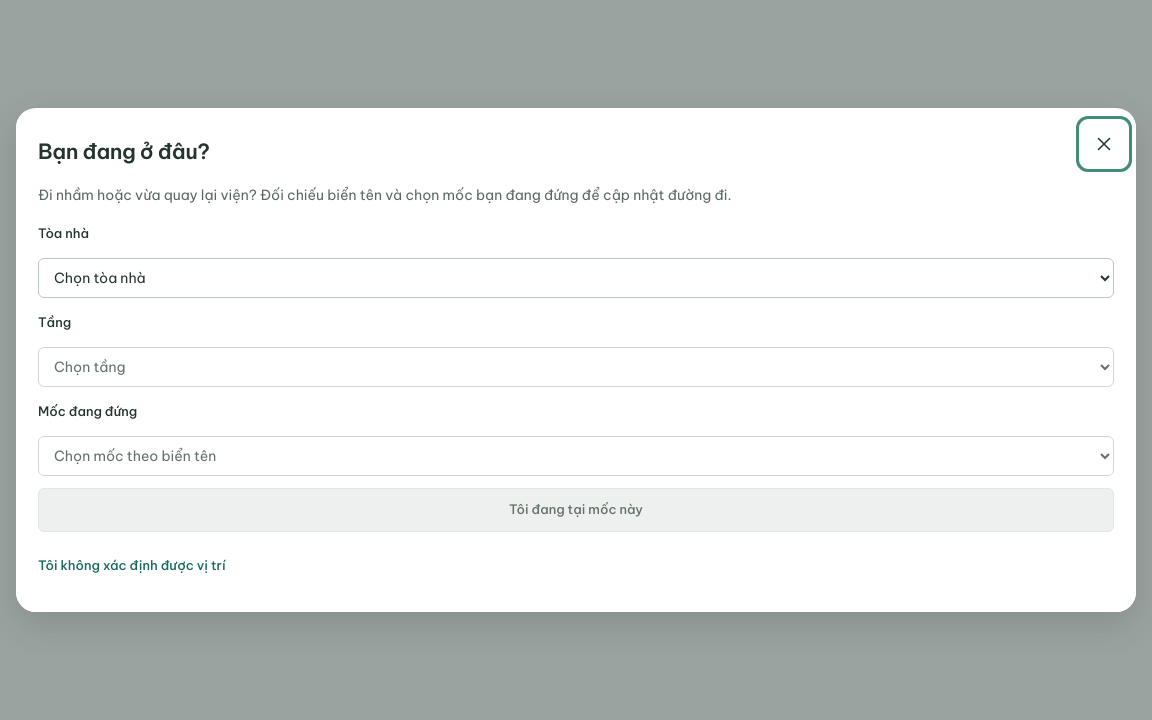
it: resets dependent choices when building changes and offers help without changing position
Select "Tòa B" in the dropdown labelled "Tòa nhà". click: (576, 278)
box: top-left (38, 258), bottom-right (1114, 298)
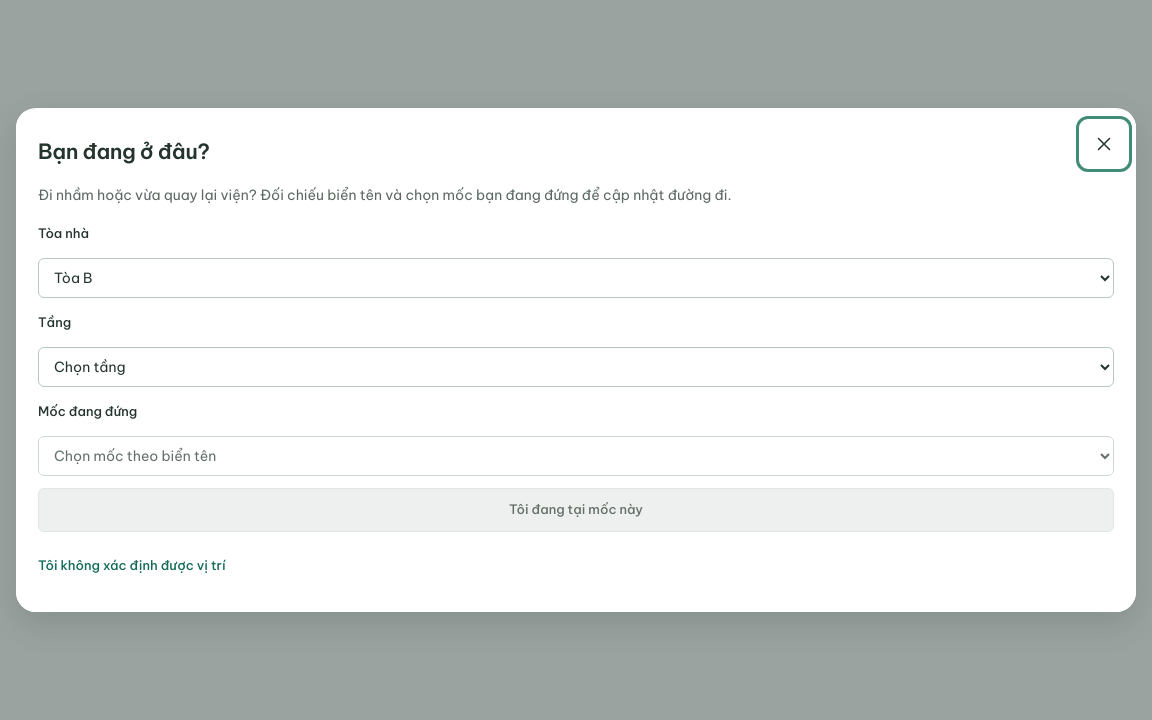
Select "Tầng 1" in the dropdown labelled "Tầng". click: (576, 367)
box: top-left (38, 347), bottom-right (1114, 387)
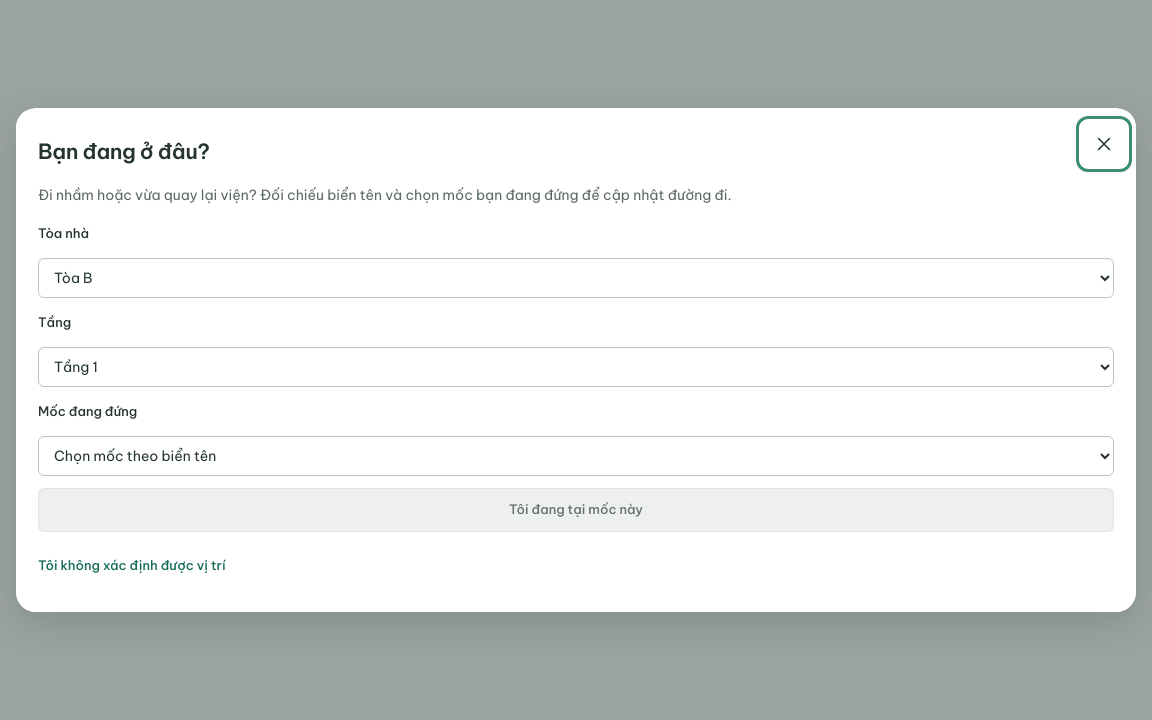
Select "B105 · Siêu âm" in the dropdown labelled "Mốc đang đứng". click: (576, 456)
box: top-left (38, 436), bottom-right (1114, 476)
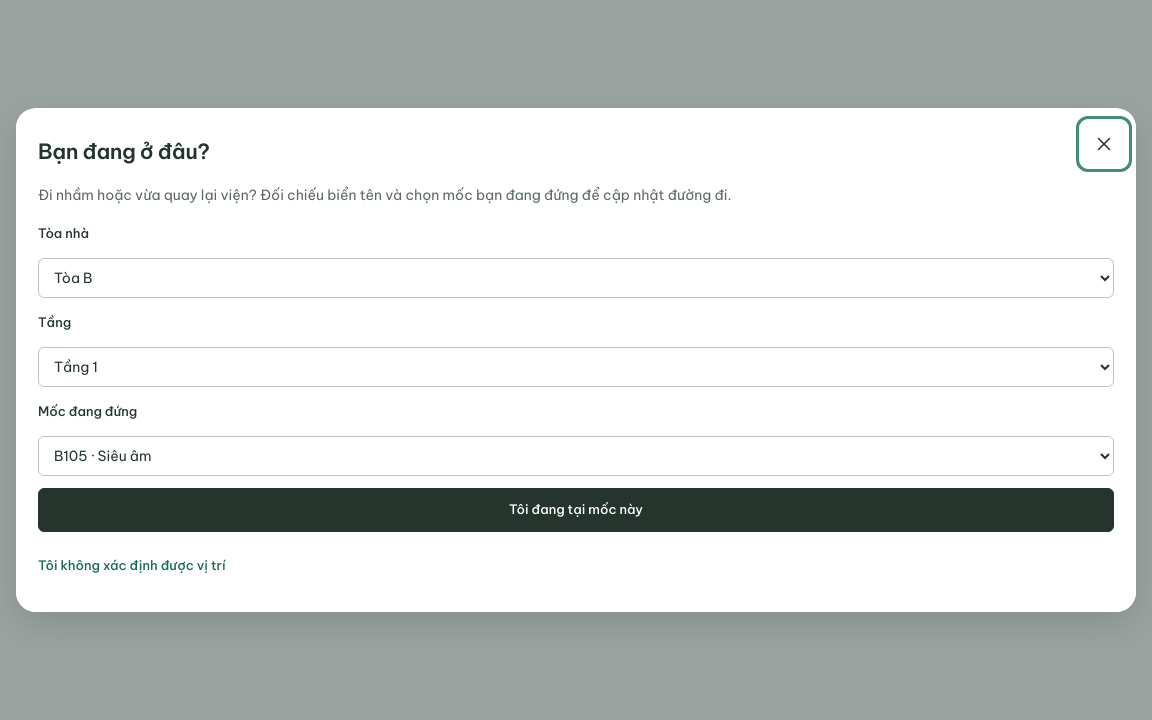
Select "Tòa A" in the dropdown labelled "Tòa nhà". click: (576, 278)
box: top-left (38, 258), bottom-right (1114, 298)
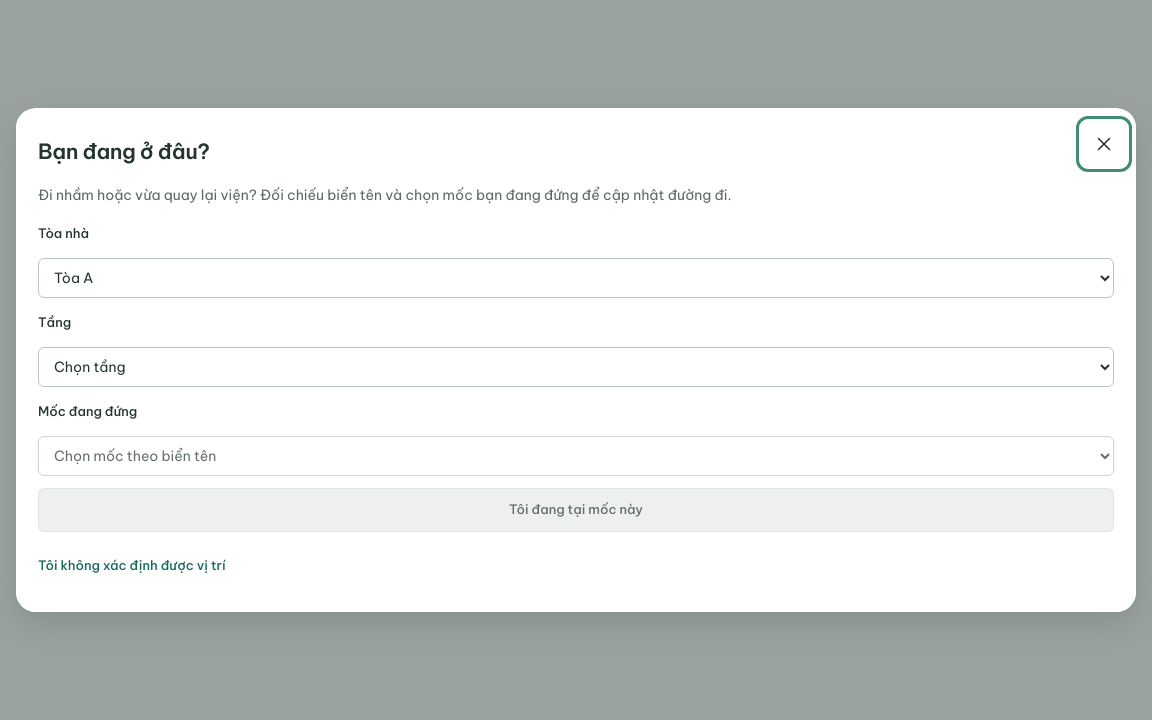
Click the button "Tôi không xác định được vị trí". click: (132, 565)
box: top-left (38, 544), bottom-right (1114, 588)
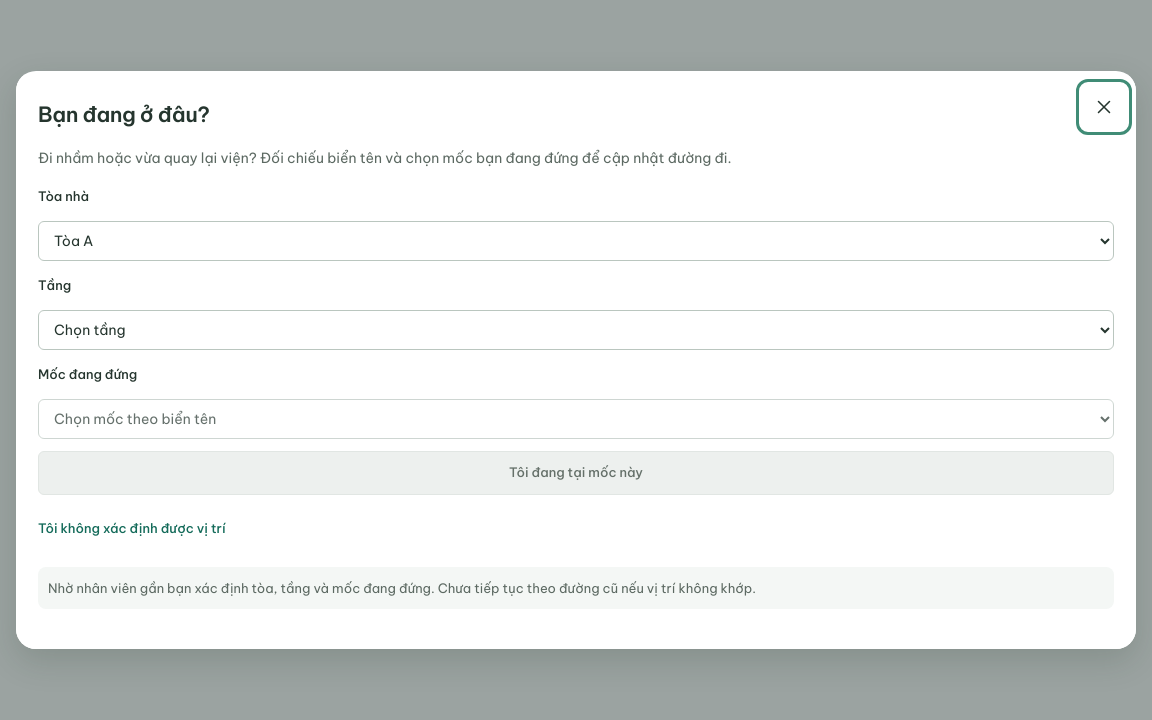
Check: the message with class "location-help" shows "Nhờ nhân viên", box top-left (48, 580), bottom-right (756, 596)
